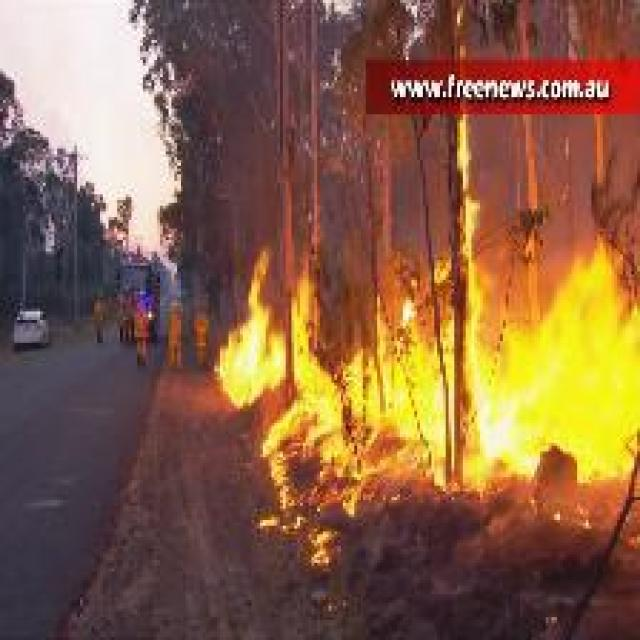fire: (210, 154, 634, 500)
